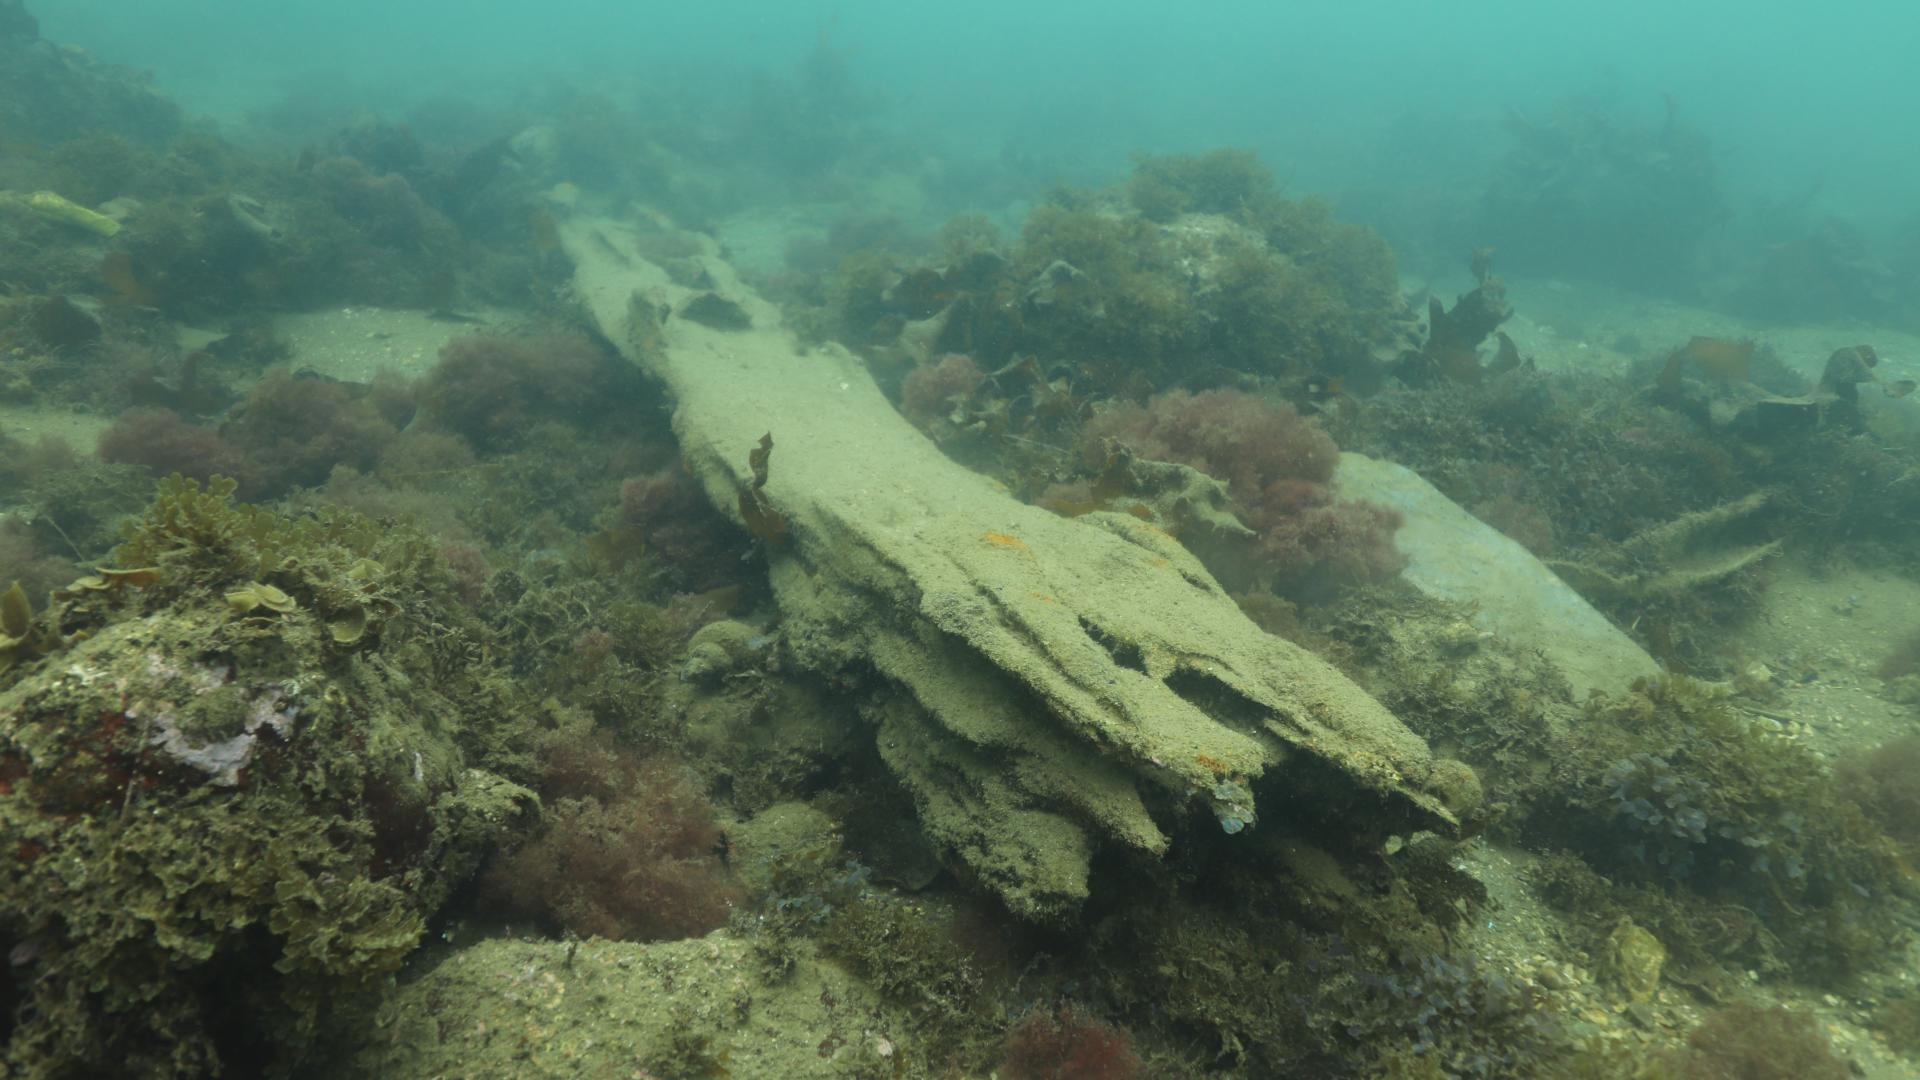wood: (535, 178, 1481, 928)
